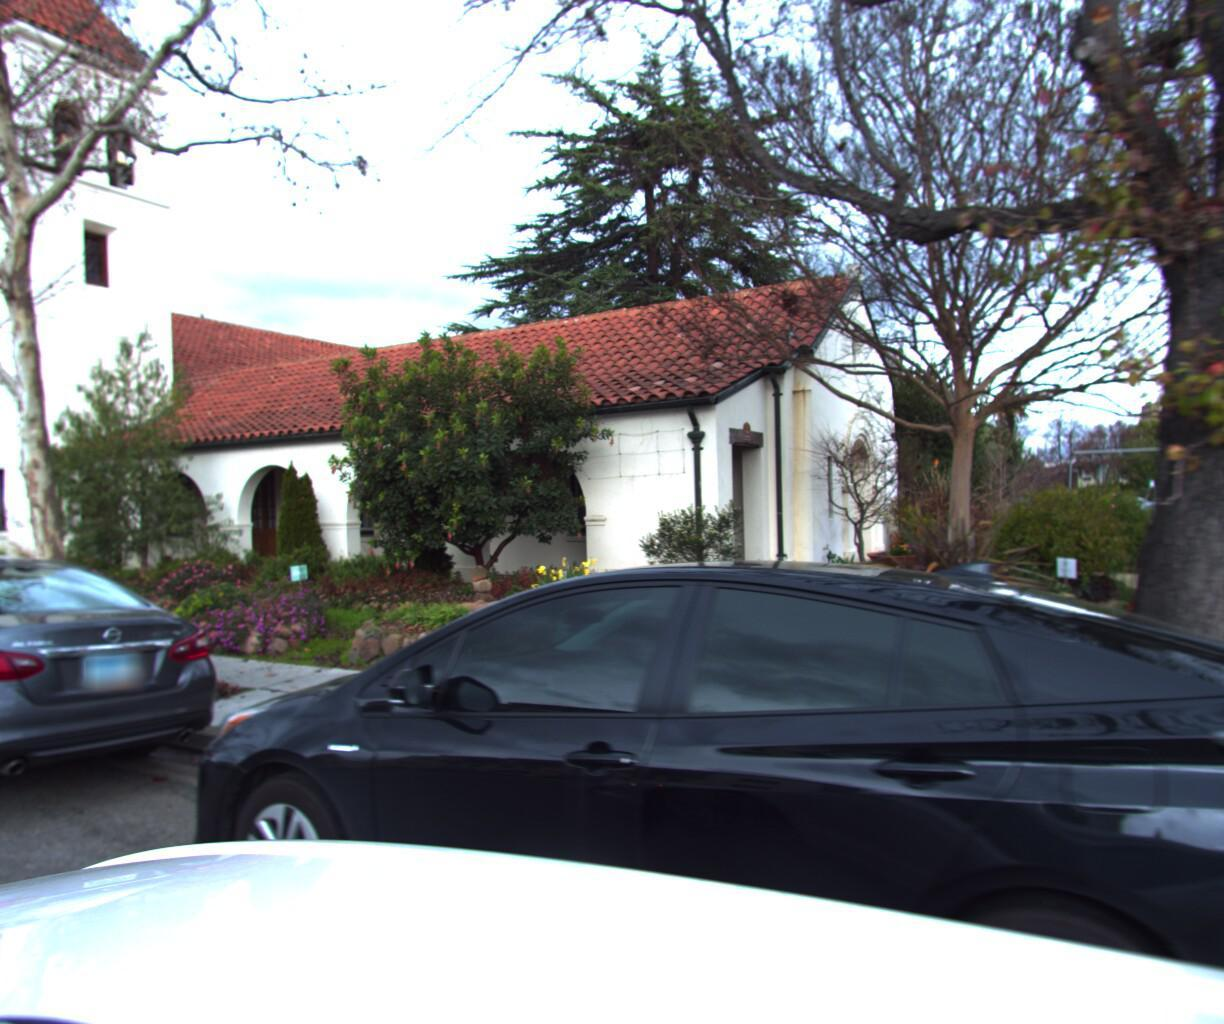car: (86, 534, 1224, 1024), (0, 536, 248, 875)
